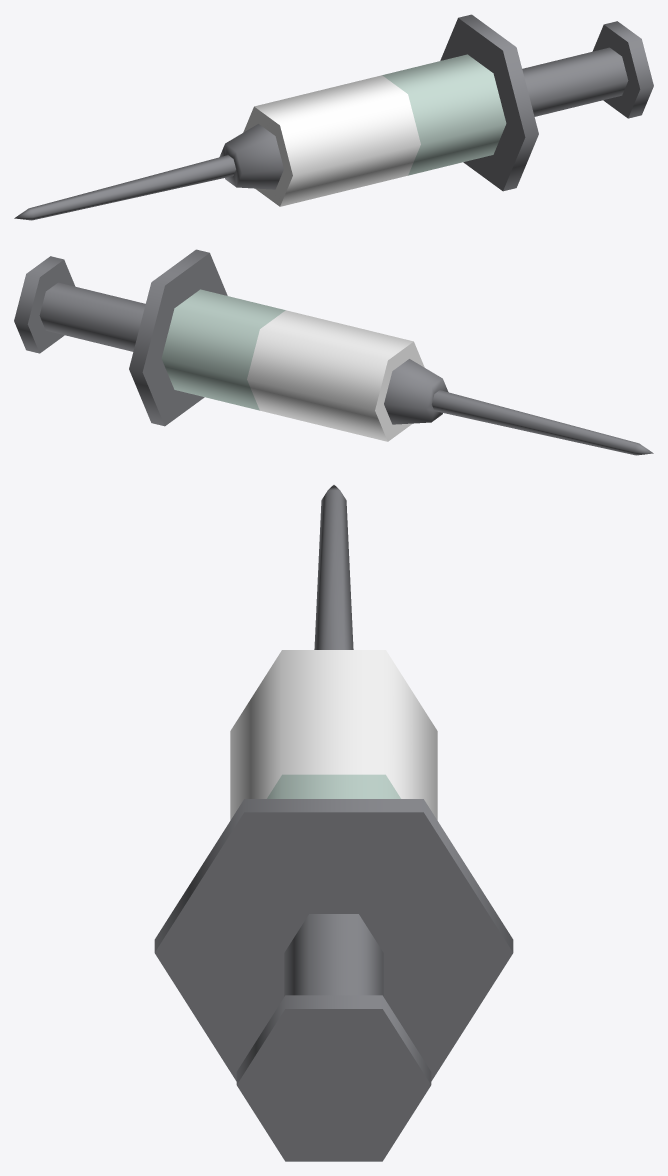
Rendered from poison syringe.fbx.
3 renders of one model, top to bottom at view 1: azimuth 30°, elevation 25°; view 2: azimuth 150°, elevation 25°; view 3: azimuth 270°, elevation 25°, orthographic. The views are drawn at different scales.
Visible parts, largest first — view 1: poison syringe; view 2: poison syringe; view 3: poison syringe.
Boxes of the visible parts, x1=… form: poison syringe: x1=14, y1=14, x2=653, y2=220; poison syringe: x1=14, y1=249, x2=653, y2=455; poison syringe: x1=154, y1=485, x2=513, y2=1161.
Bounding box in the file's own units: 0.3888 × 0.085 × 0.0981.
